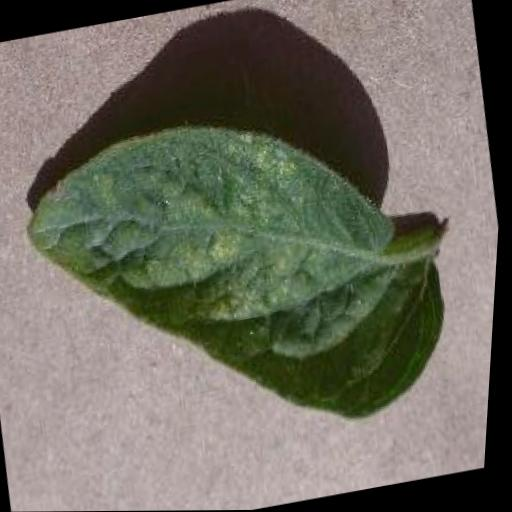Spider Mites: (6, 80, 476, 470)
